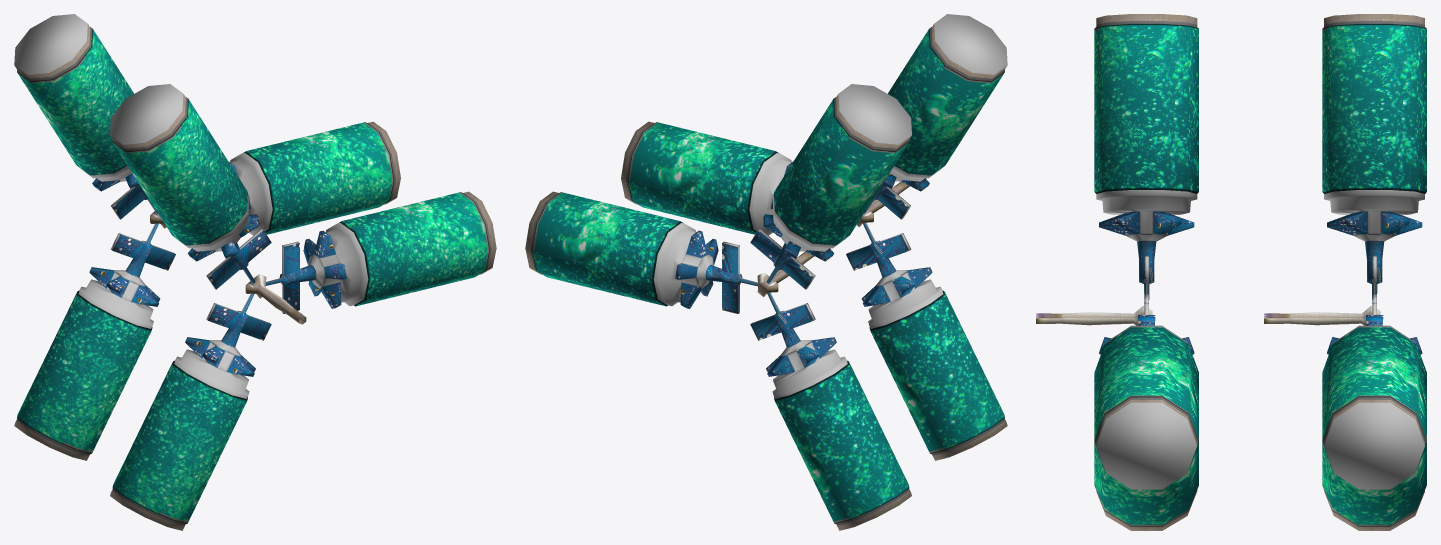
Rendered from AlmacenamientoBio2_00.fbx.
The picture shows the model from 3 angles, left to right: view 1: azimuth 30°, elevation 25°; view 2: azimuth 150°, elevation 25°; view 3: azimuth 270°, elevation 25°; orthographic projection. The views are drawn at different scales.
Parts seen in each view (by area): view 1: MatBio2_001; view 2: MatBio2_001; view 3: MatBio2_001.
Boxes of the visible parts, x1=… form: MatBio2_001: x1=14, y1=14, x2=496, y2=530; MatBio2_001: x1=525, y1=14, x2=1007, y2=530; MatBio2_001: x1=1036, y1=14, x2=1426, y2=530.
Bounding box in the file's own units: 0.9373 × 1.08 × 0.7412.
Materials: 1 (1 with a texture image).
